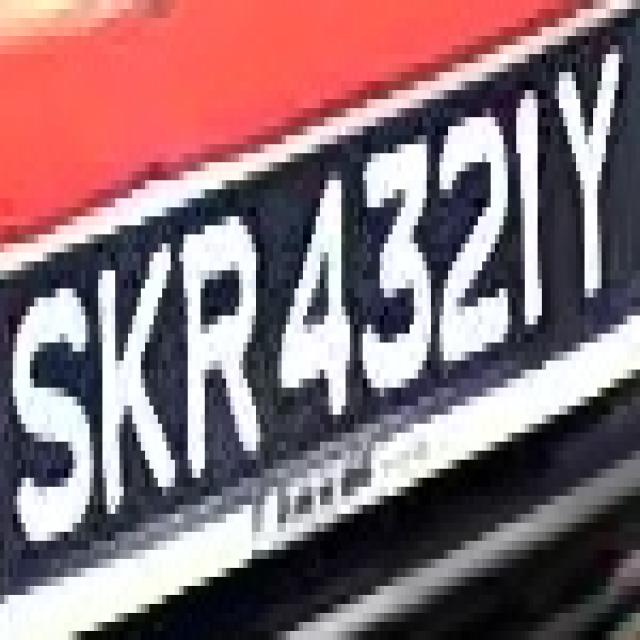1: (508, 72, 559, 370)
2: (427, 108, 516, 379)
3: (350, 117, 439, 406)
4: (273, 126, 358, 451)
K: (90, 225, 179, 532)
R: (180, 189, 278, 487)
S: (17, 261, 102, 559)
Y: (550, 27, 628, 288)
